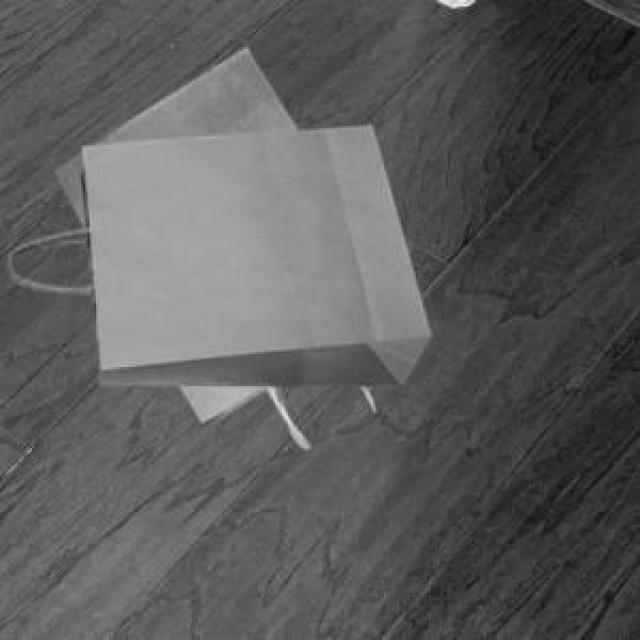paper: (51, 43, 370, 446), (4, 122, 427, 382)
